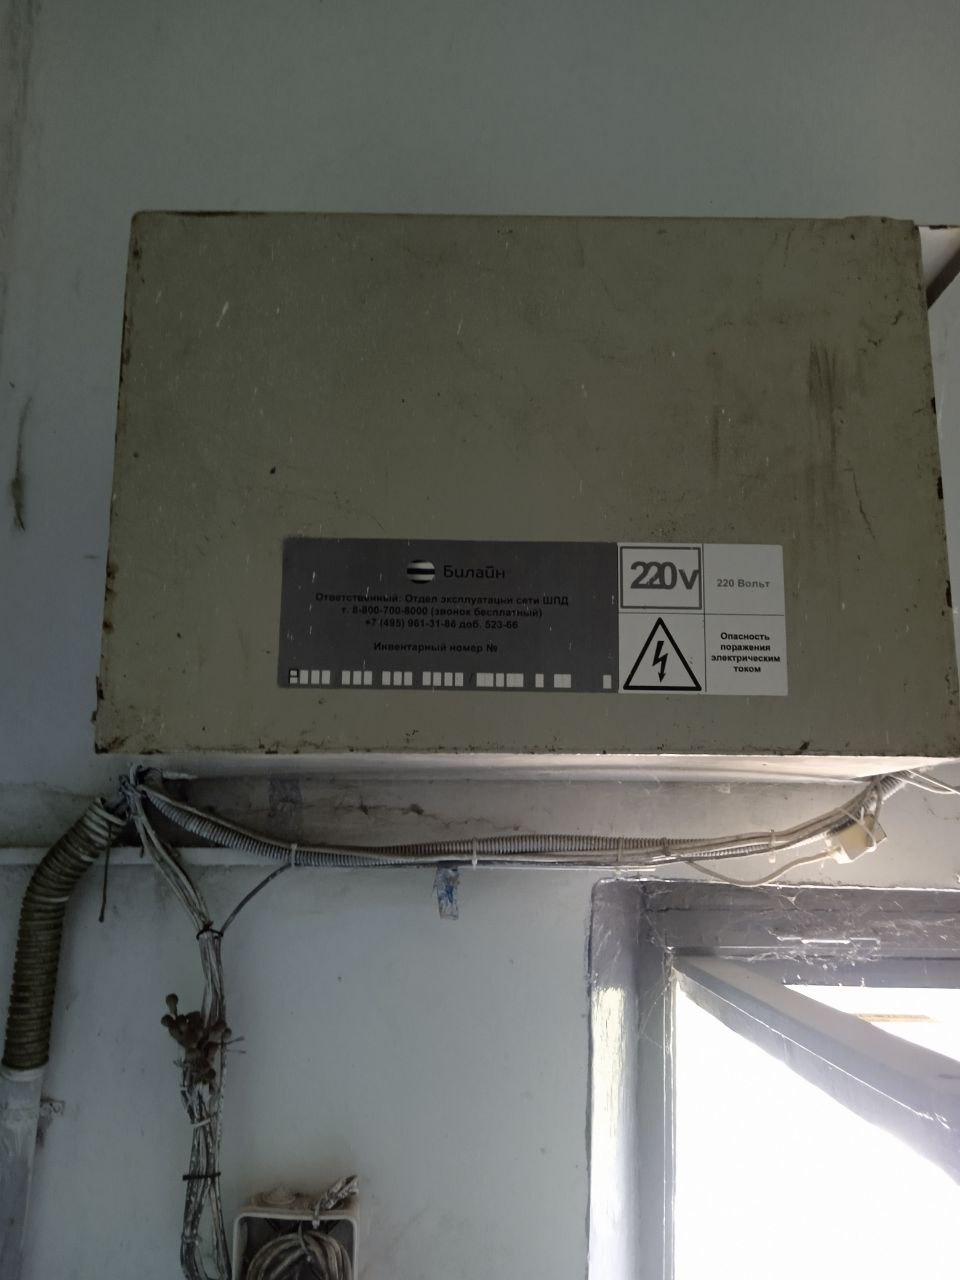sv-5: (85, 206, 956, 765)
